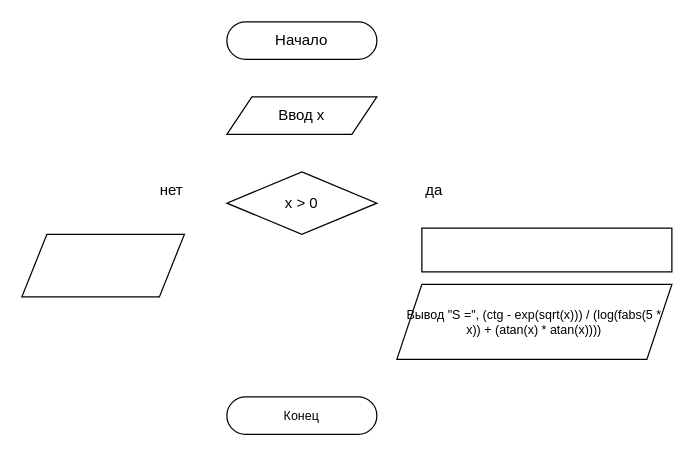
The diagram is 694 pixels wide and 456 high, and some of its shapes have lost their labels. The box of each missing label's shape, as (x1, y1, x2, y2) in pixels:
"Значение x не соответсвует ООФ": (21, 233, 184, 297)
ctg = 1/tan(x): (421, 227, 672, 272)
